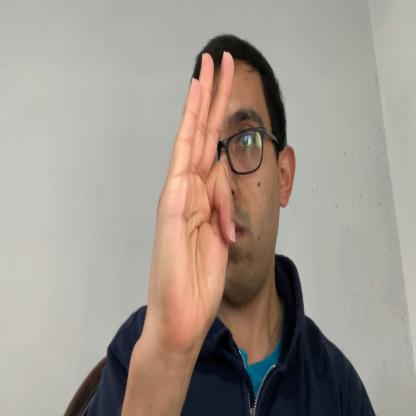F: (153, 51, 237, 336)
